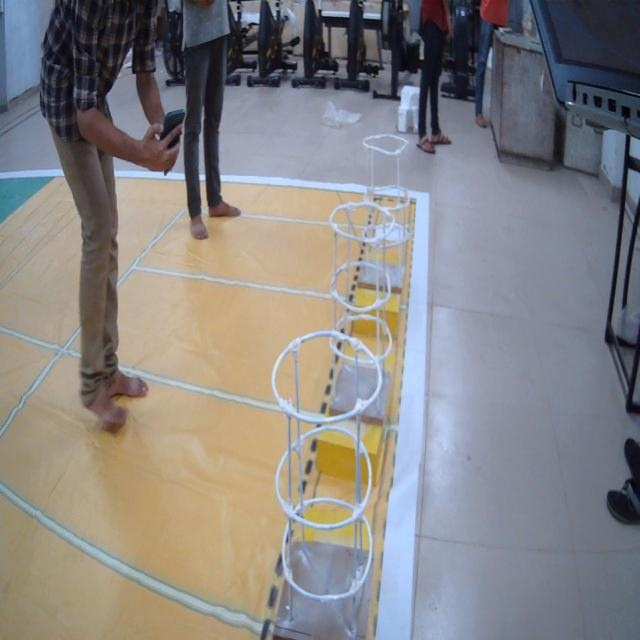silo: (274, 333, 378, 640), (334, 203, 388, 429), (363, 131, 408, 293)
